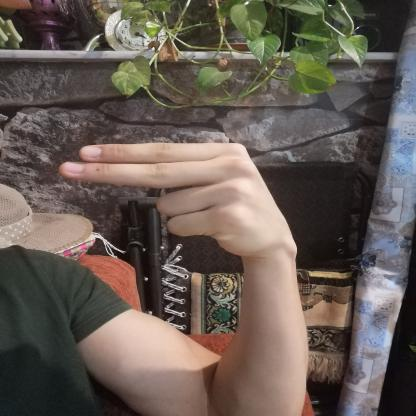AYN: (45, 128, 310, 270)
